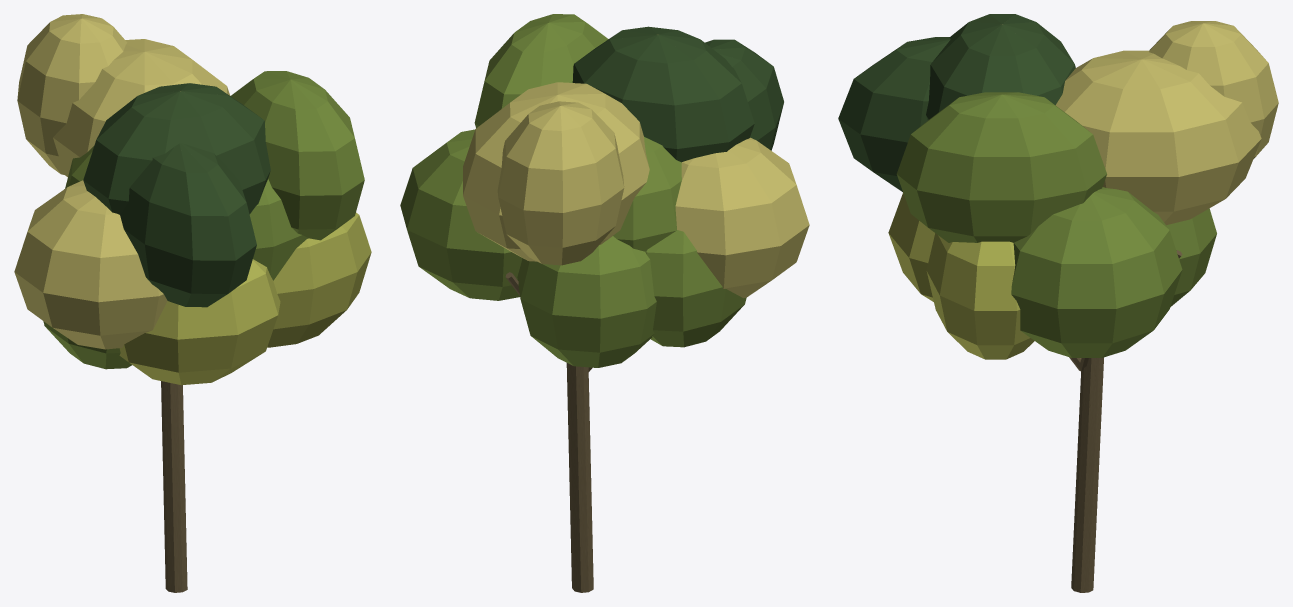
File: Forest_BacklitTree_04.obj
The picture shows the model from 3 angles, left to right: view 1: azimuth 30°, elevation 25°; view 2: azimuth 150°, elevation 25°; view 3: azimuth 270°, elevation 25°; orthographic projection. The views are drawn at different scales.
Parts seen in each view (by area): view 1: Forest_BacklitTree_04; view 2: Forest_BacklitTree_04; view 3: Forest_BacklitTree_04.
Part boxes in pixels (box(x1,y1,x2,y2)): Forest_BacklitTree_04: box(14, 14, 371, 592); Forest_BacklitTree_04: box(400, 14, 809, 592); Forest_BacklitTree_04: box(838, 14, 1278, 592).
Bounding box in the file's own units: 6.07 × 8.96 × 6.53.
Materials: 1 (1 with a texture image).
